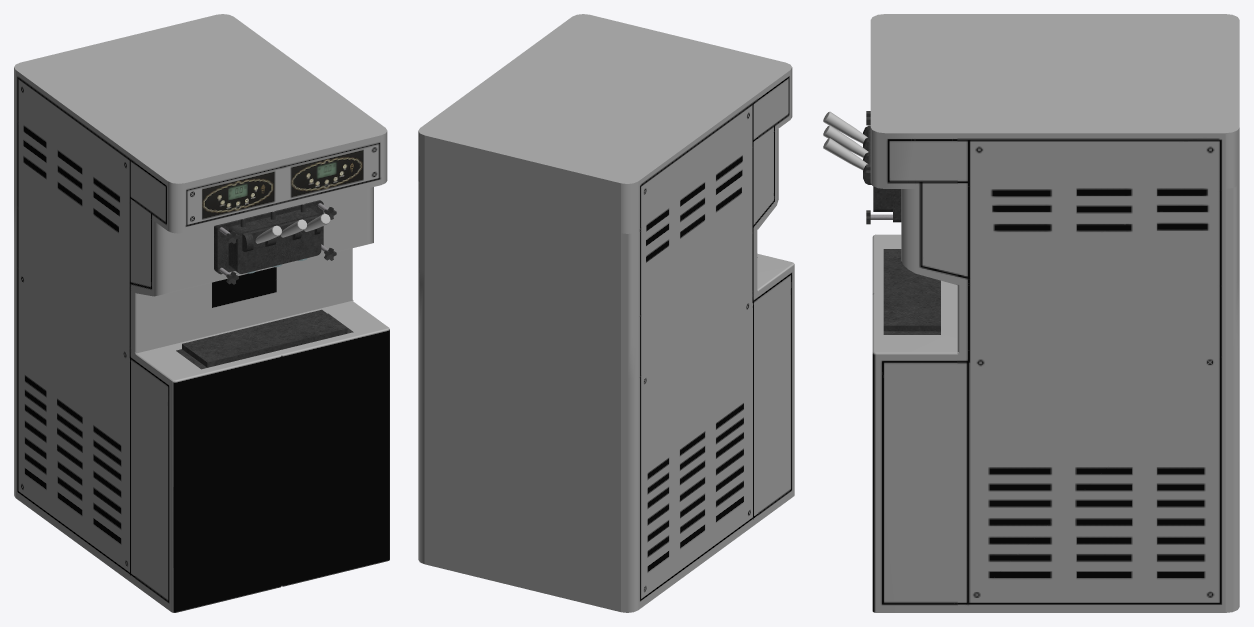
3 views of the same model, side by side, from view 1: azimuth 30°, elevation 25°; view 2: azimuth 150°, elevation 25°; view 3: azimuth 270°, elevation 25° (orthographic). The views are drawn at different scales.
Visible parts, largest first — view 1: Ice_Cream_Machine1; view 2: Ice_Cream_Machine1; view 3: Ice_Cream_Machine1.
Part boxes in pixels (x1,y1,x2,y2): Ice_Cream_Machine1: [14, 14, 389, 612]; Ice_Cream_Machine1: [418, 14, 794, 612]; Ice_Cream_Machine1: [823, 14, 1239, 612].
Size of the model in its own units: 0.9867 by 1.85 by 1.46.
2 materials, 2 textured.
